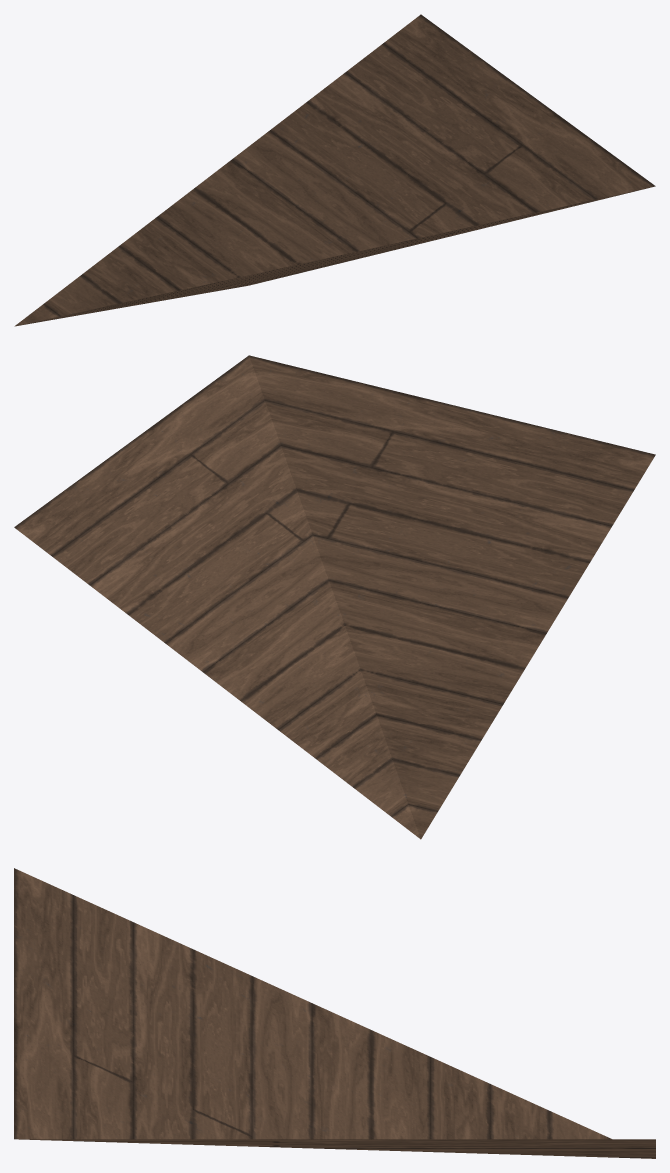
Rendered from Roof_3mH_D_Corner_B_Ceiling.fbx.
3 views of the same model, one above another, from view 1: azimuth 30°, elevation 25°; view 2: azimuth 150°, elevation 25°; view 3: azimuth 270°, elevation 25° (orthographic). The views are drawn at different scales.
Parts seen in each view (by area): view 1: Roof_3mH_D_Corner_B_Ceiling; view 2: Roof_3mH_D_Corner_B_Ceiling; view 3: Roof_3mH_D_Corner_B_Ceiling.
Part boxes in pixels (x1,y1,x2,y2): Roof_3mH_D_Corner_B_Ceiling: (14,14,655,326); Roof_3mH_D_Corner_B_Ceiling: (14,355,655,839); Roof_3mH_D_Corner_B_Ceiling: (14,868,655,1158).
Size of the model in its own units: 6 by 6 by 3.
